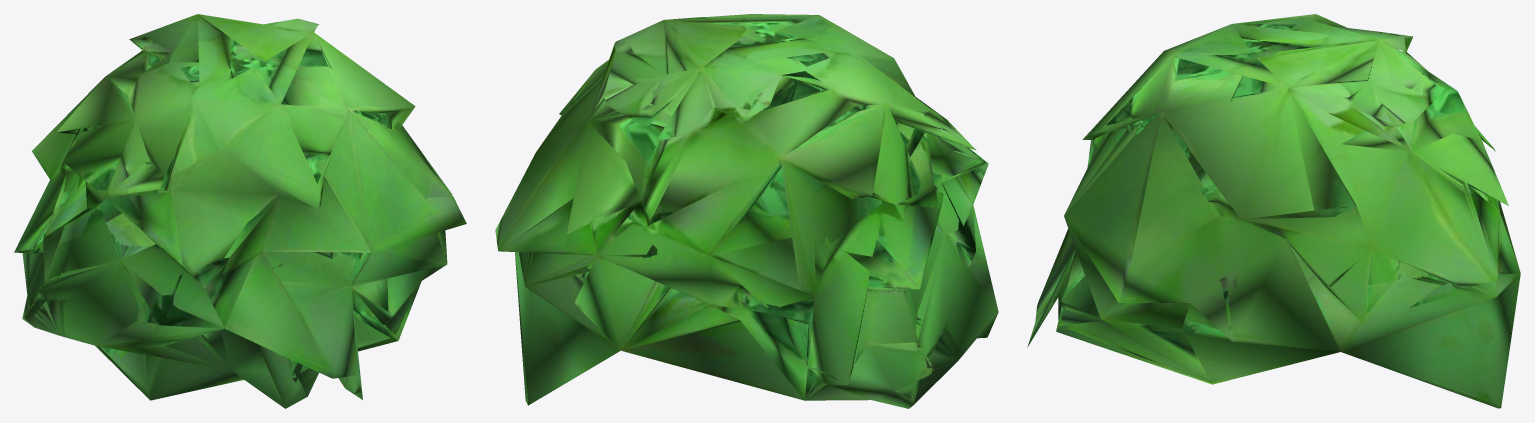
The model's file is Leafy_Dome_0616221752_texture.fbx.
3 renders of one model, left to right at view 1: azimuth 30°, elevation 25°; view 2: azimuth 150°, elevation 25°; view 3: azimuth 270°, elevation 25°, orthographic. The views are drawn at different scales.
Parts seen in each view (by area): view 1: Mesh1; view 2: Mesh1; view 3: Mesh1.
Boxes of the visible parts, x1,y1,x2,y2 form: Mesh1: [14, 14, 466, 408]; Mesh1: [495, 14, 998, 408]; Mesh1: [1027, 14, 1520, 408].
Bounding box in the file's own units: 179 × 139 × 183.
1 material, 1 textured.
